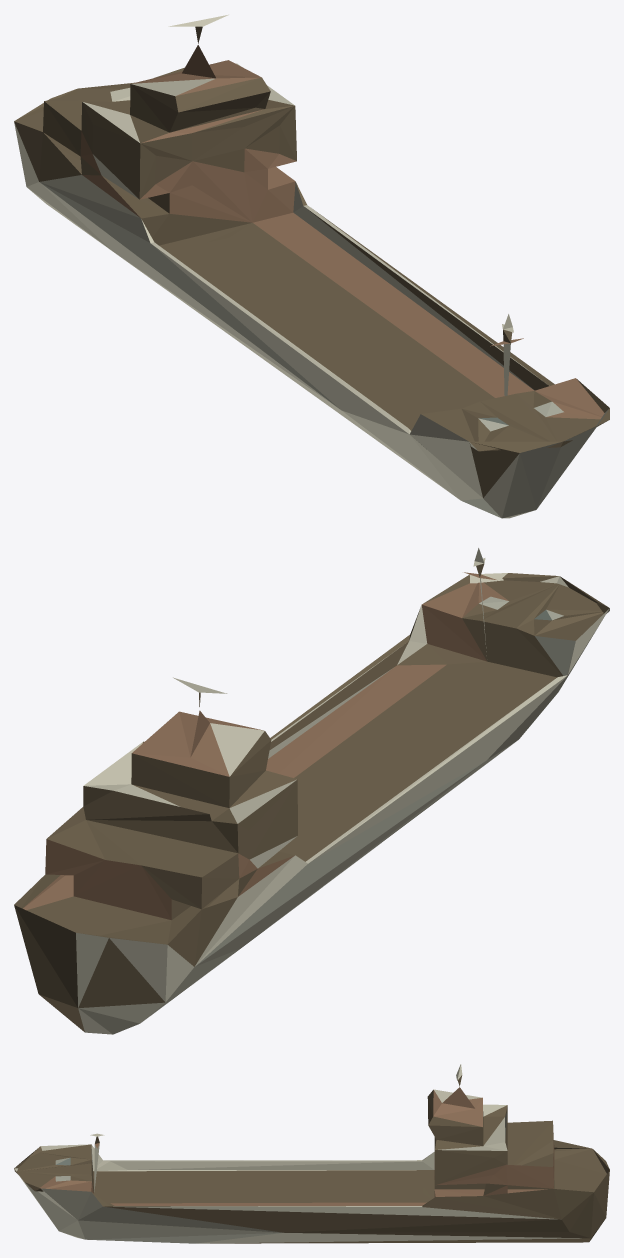
File: staging_cargo_ship_silhouette.obj
3 renders of one model, top to bottom at view 1: azimuth 30°, elevation 25°; view 2: azimuth 150°, elevation 25°; view 3: azimuth 270°, elevation 25°, orthographic. The views are drawn at different scales.
Visible parts, largest first — view 1: staging_cargo_ship_silhouette; view 2: staging_cargo_ship_silhouette; view 3: staging_cargo_ship_silhouette.
Part boxes in pixels (<box>): staging_cargo_ship_silhouette: <box>14,14,609,518</box>; staging_cargo_ship_silhouette: <box>14,548,609,1034</box>; staging_cargo_ship_silhouette: <box>14,1064,609,1243</box>.
Size of the model in its own units: 5.83 by 9.63 by 30.97.
